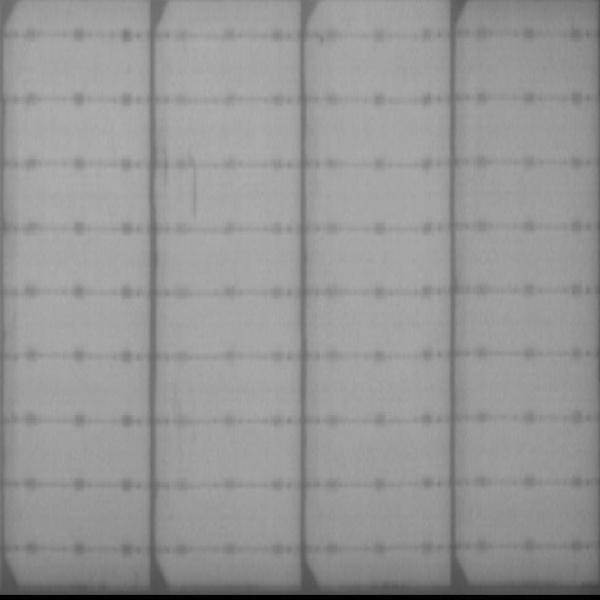scratch: (189, 157, 203, 220)
